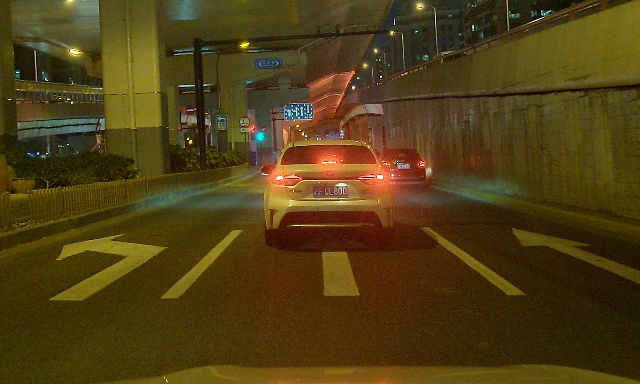car: (261, 139, 395, 246), (376, 148, 426, 187)
